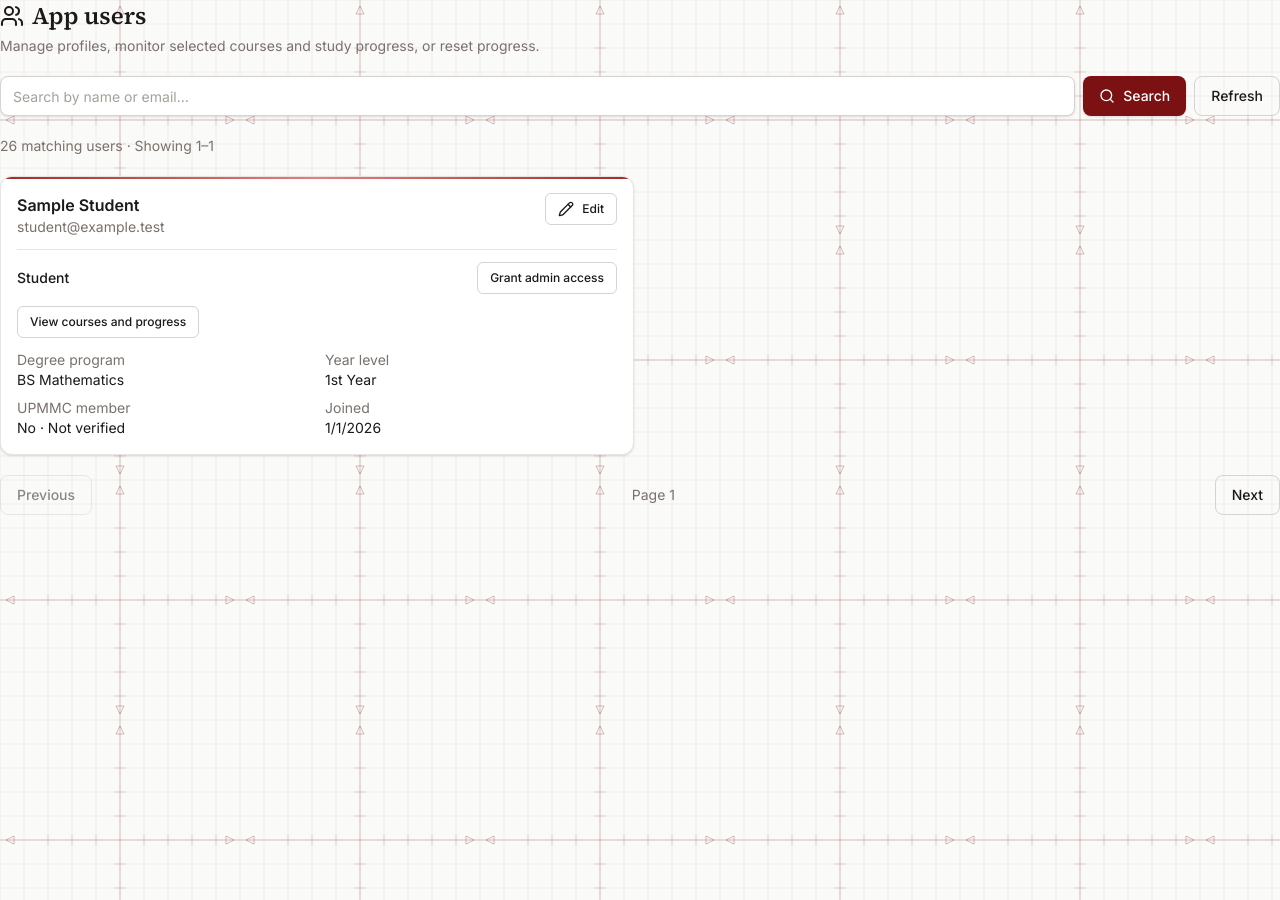
Test case: admin users › requires explicit confirmation and grants the selected user access
Step 1. Click the button "Grant admin access" → x=547, y=278, box [477, 262, 617, 294]
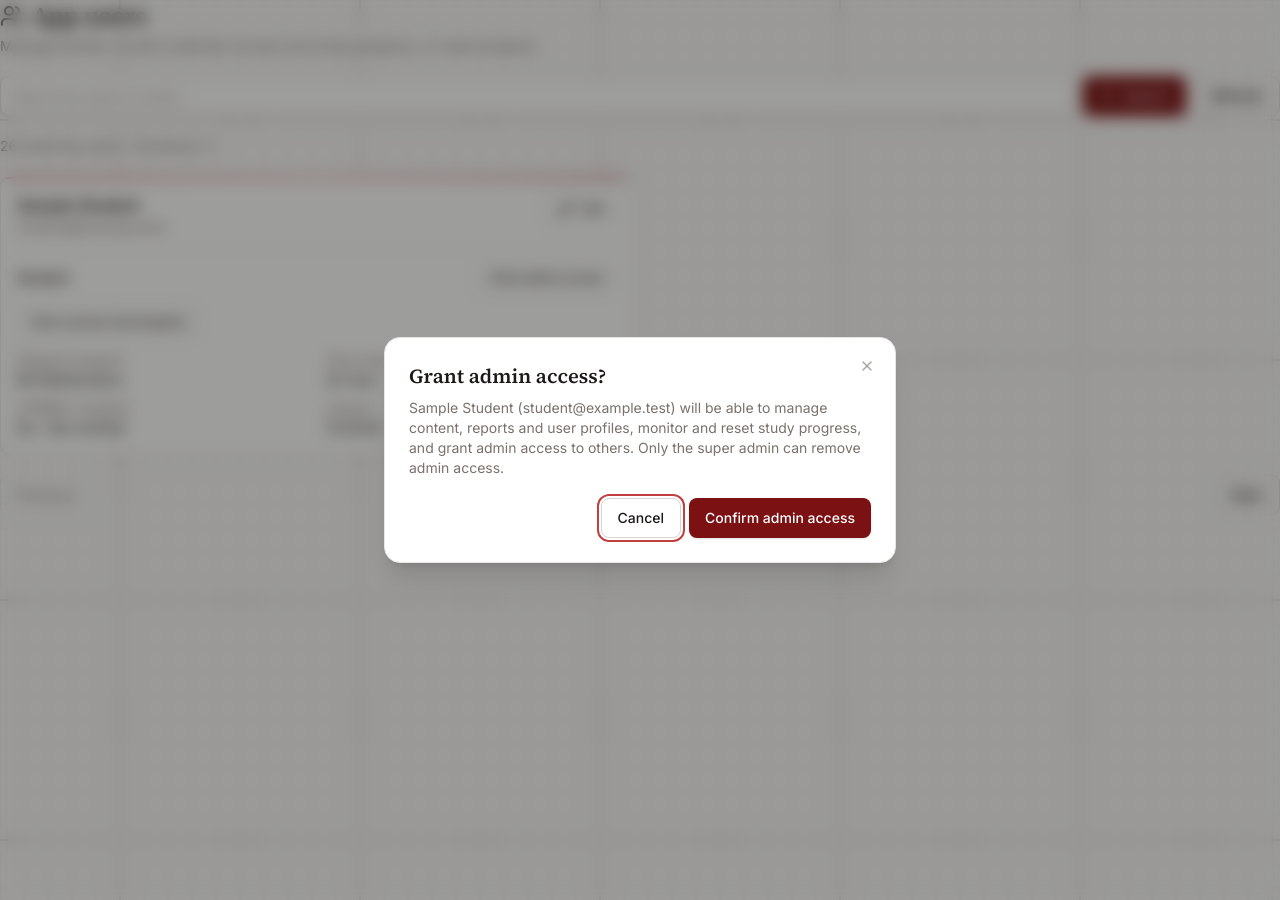
Expected: the dialog shows "student@example.test", [523, 399, 670, 416]
Step 2. Click the button "Confirm admin access" → x=780, y=518, box [689, 498, 871, 538]
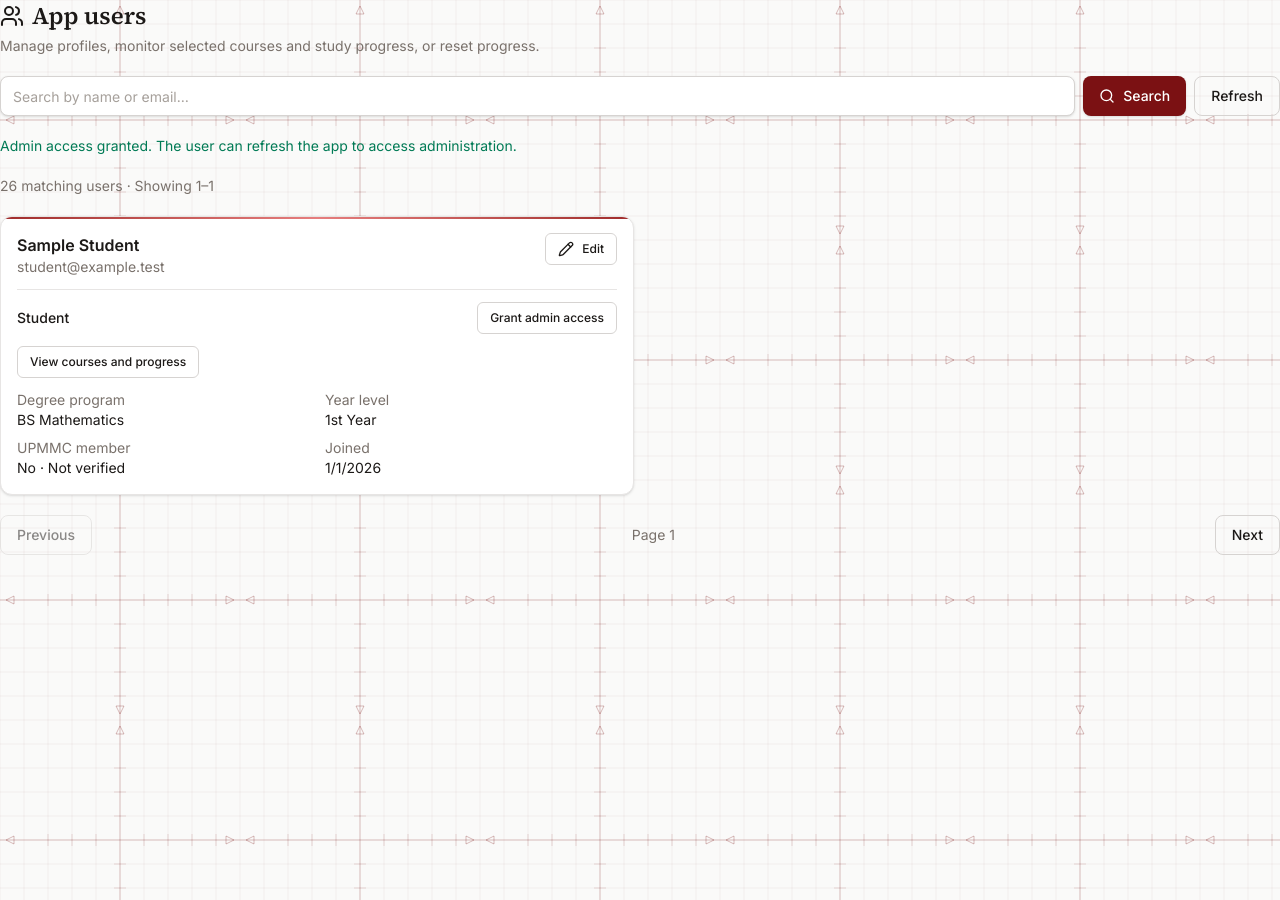
Expected: the text "Admin access granted. The user can refresh the app to access administration." is shown, [0, 137, 517, 154]
